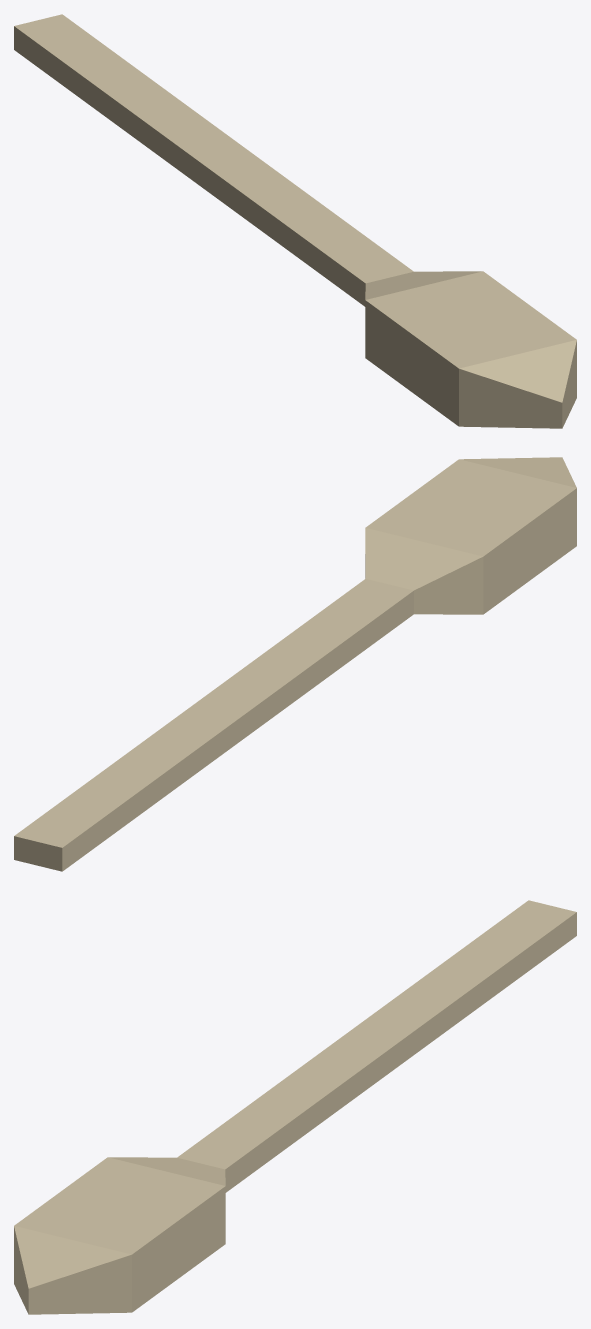
File: cc0-canoe-paddle-lod0.glb
3 renders of one model, top to bottom at view 1: azimuth 30°, elevation 25°; view 2: azimuth 150°, elevation 25°; view 3: azimuth 330°, elevation 25°, orthographic.
Visible parts, largest first — view 1: part_0; view 2: part_0; view 3: part_0.
Part boxes in pixels (x1,y1,x2,y2): part_0: (14, 14, 576, 428); part_0: (14, 457, 576, 871); part_0: (14, 900, 576, 1314).
Bounding box in the file's own units: 0.0767 × 0.0361 × 0.5902.
